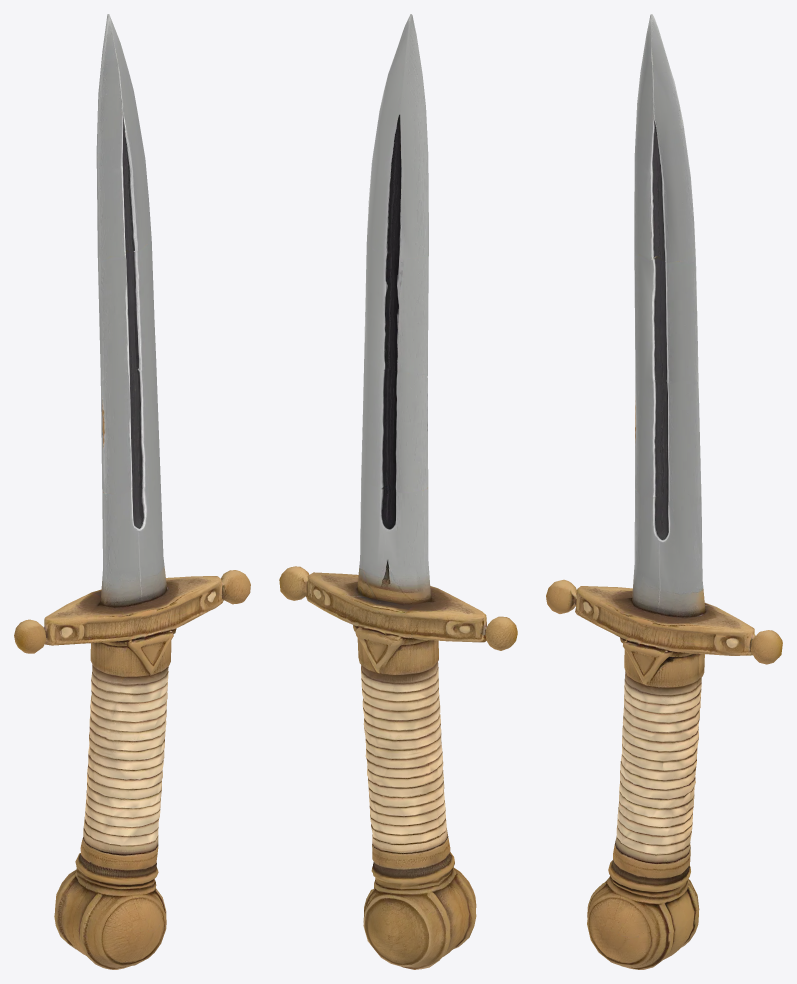
File: gladius_ornate.glb
The picture shows the model from 3 angles, left to right: view 1: azimuth 30°, elevation 25°; view 2: azimuth 150°, elevation 25°; view 3: azimuth 330°, elevation 25°; orthographic projection.
Size of the model in its own units: 0.4865 by 1.9 by 0.2287.
1 material, 1 textured.
